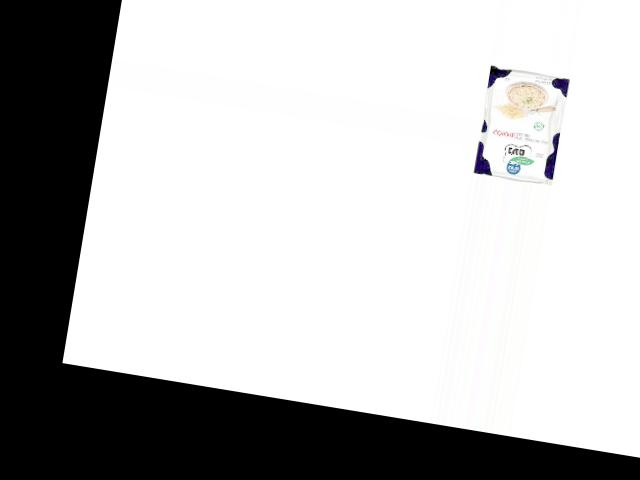cheese: (470, 62, 571, 187)
